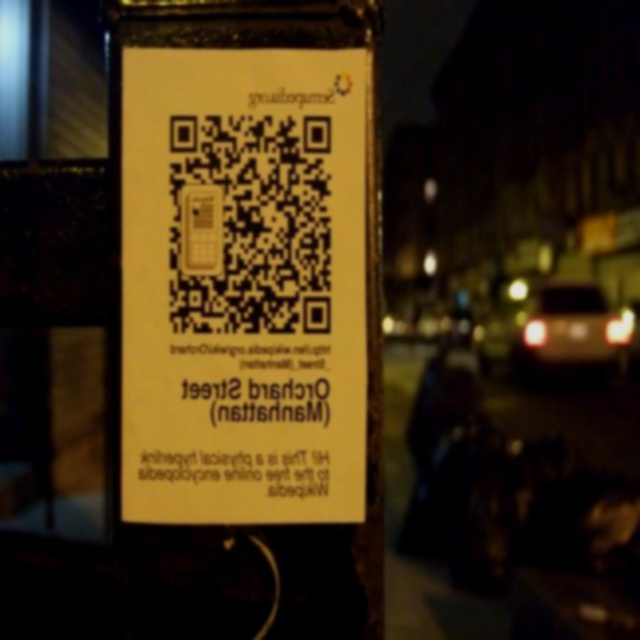qr-code: (170, 115, 331, 334)
